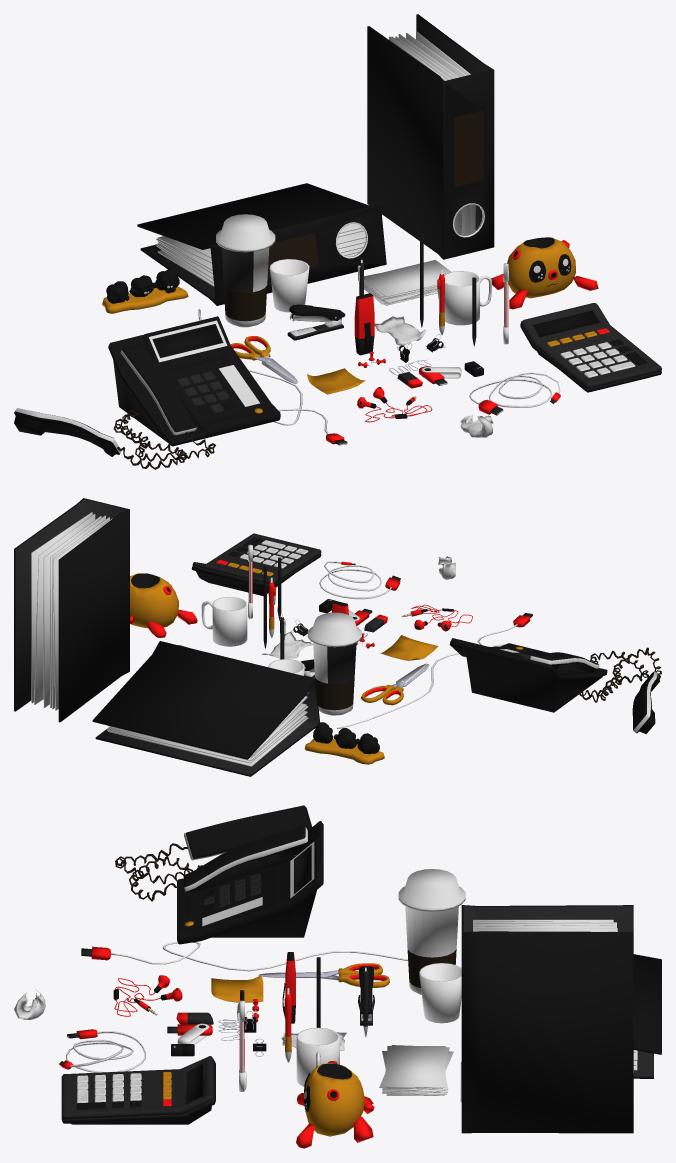
File: office_lod1.FBX
3 renders of one model, top to bottom at view 1: azimuth 30°, elevation 25°; view 2: azimuth 150°, elevation 25°; view 3: azimuth 270°, elevation 25°, orthographic. The views are drawn at different scales.
Visible parts, largest first — view 1: file_01_lod_1, file_side_01_lod_1, phone_01_lod_1, calculator_01_lod_1, coffee_cap_lod_1, pokeholder_01_lod_1, phone_01_reciever_01_lod_1, 3_blob_podium_lod_1, paper_pile_02_lod_1, phone_01_reciever_02_lod_1, calculator_01_buttons_lod_1, cup_1_lod_1 (+11 smaller); view 2: file_side_01_lod_1, file_01_lod_1, paper_lod_1 (×6), phone_01_lod_1, coffee_cap_lod_1, calculator_01_lod_1, pokeholder_01_lod_1, 3_blob_podium_lod_1, cup_1_lod_1, calculator_01_buttons_lod_1, phone_01_reciever_02_lod_1, USB_cable_1_lod_1 (+13 smaller); view 3: file_01_lod_1, phone_01_lod_1, calculator_01_lod_1, coffee_cap_lod_1, pokeholder_01_lod_1, phone_01_reciever_02_lod_1, file_side_01_lod_1, paper_pile_02_lod_1, phone_01_reciever_01_lod_1, glass_1_lod_1, calculator_01_buttons_lod_1, cup_1_lod_1 (+11 smaller).
Part boxes in pixels (box(x1,y1,x2,y2)): file_01_lod_1: box(367, 14, 494, 259); file_side_01_lod_1: box(137, 183, 386, 305); phone_01_lod_1: box(108, 316, 280, 446); calculator_01_lod_1: box(520, 303, 661, 392); coffee_cap_lod_1: box(216, 214, 275, 327); pokeholder_01_lod_1: box(491, 237, 598, 309); phone_01_reciever_01_lod_1: box(120, 344, 196, 436); 3_blob_podium_lod_1: box(102, 269, 188, 313); paper_pile_02_lod_1: box(364, 260, 451, 300); phone_01_reciever_02_lod_1: box(14, 408, 121, 456); calculator_01_buttons_lod_1: box(547, 328, 647, 377); cup_1_lod_1: box(444, 271, 491, 325); file_side_01_lod_1: box(92, 641, 319, 776); file_01_lod_1: box(14, 498, 129, 722); paper_lod_1 (×6): box(31, 512, 112, 710); phone_01_lod_1: box(449, 638, 607, 712); coffee_cap_lod_1: box(307, 612, 361, 715); calculator_01_lod_1: box(191, 533, 321, 596); pokeholder_01_lod_1: box(130, 573, 197, 637); 3_blob_podium_lod_1: box(304, 722, 384, 764); cup_1_lod_1: box(201, 597, 247, 646); calculator_01_buttons_lod_1: box(216, 537, 308, 576); phone_01_reciever_02_lod_1: box(632, 671, 659, 734); USB_cable_1_lod_1: box(319, 561, 400, 599); file_01_lod_1: box(460, 905, 633, 1133); phone_01_lod_1: box(177, 821, 323, 944); calculator_01_lod_1: box(61, 1056, 215, 1124); coffee_cap_lod_1: box(398, 869, 465, 994); pokeholder_01_lod_1: box(296, 1063, 374, 1148); phone_01_reciever_02_lod_1: box(184, 805, 311, 860); file_side_01_lod_1: box(633, 954, 661, 1078); paper_pile_02_lod_1: box(379, 1045, 453, 1092); phone_01_reciever_01_lod_1: box(183, 826, 308, 892); glass_1_lod_1: box(419, 963, 461, 1023); calculator_01_buttons_lod_1: box(77, 1072, 171, 1109); cup_1_lod_1: box(296, 1027, 339, 1086).
Size of the model in its own units: 14464 by 4275 by 12258.
